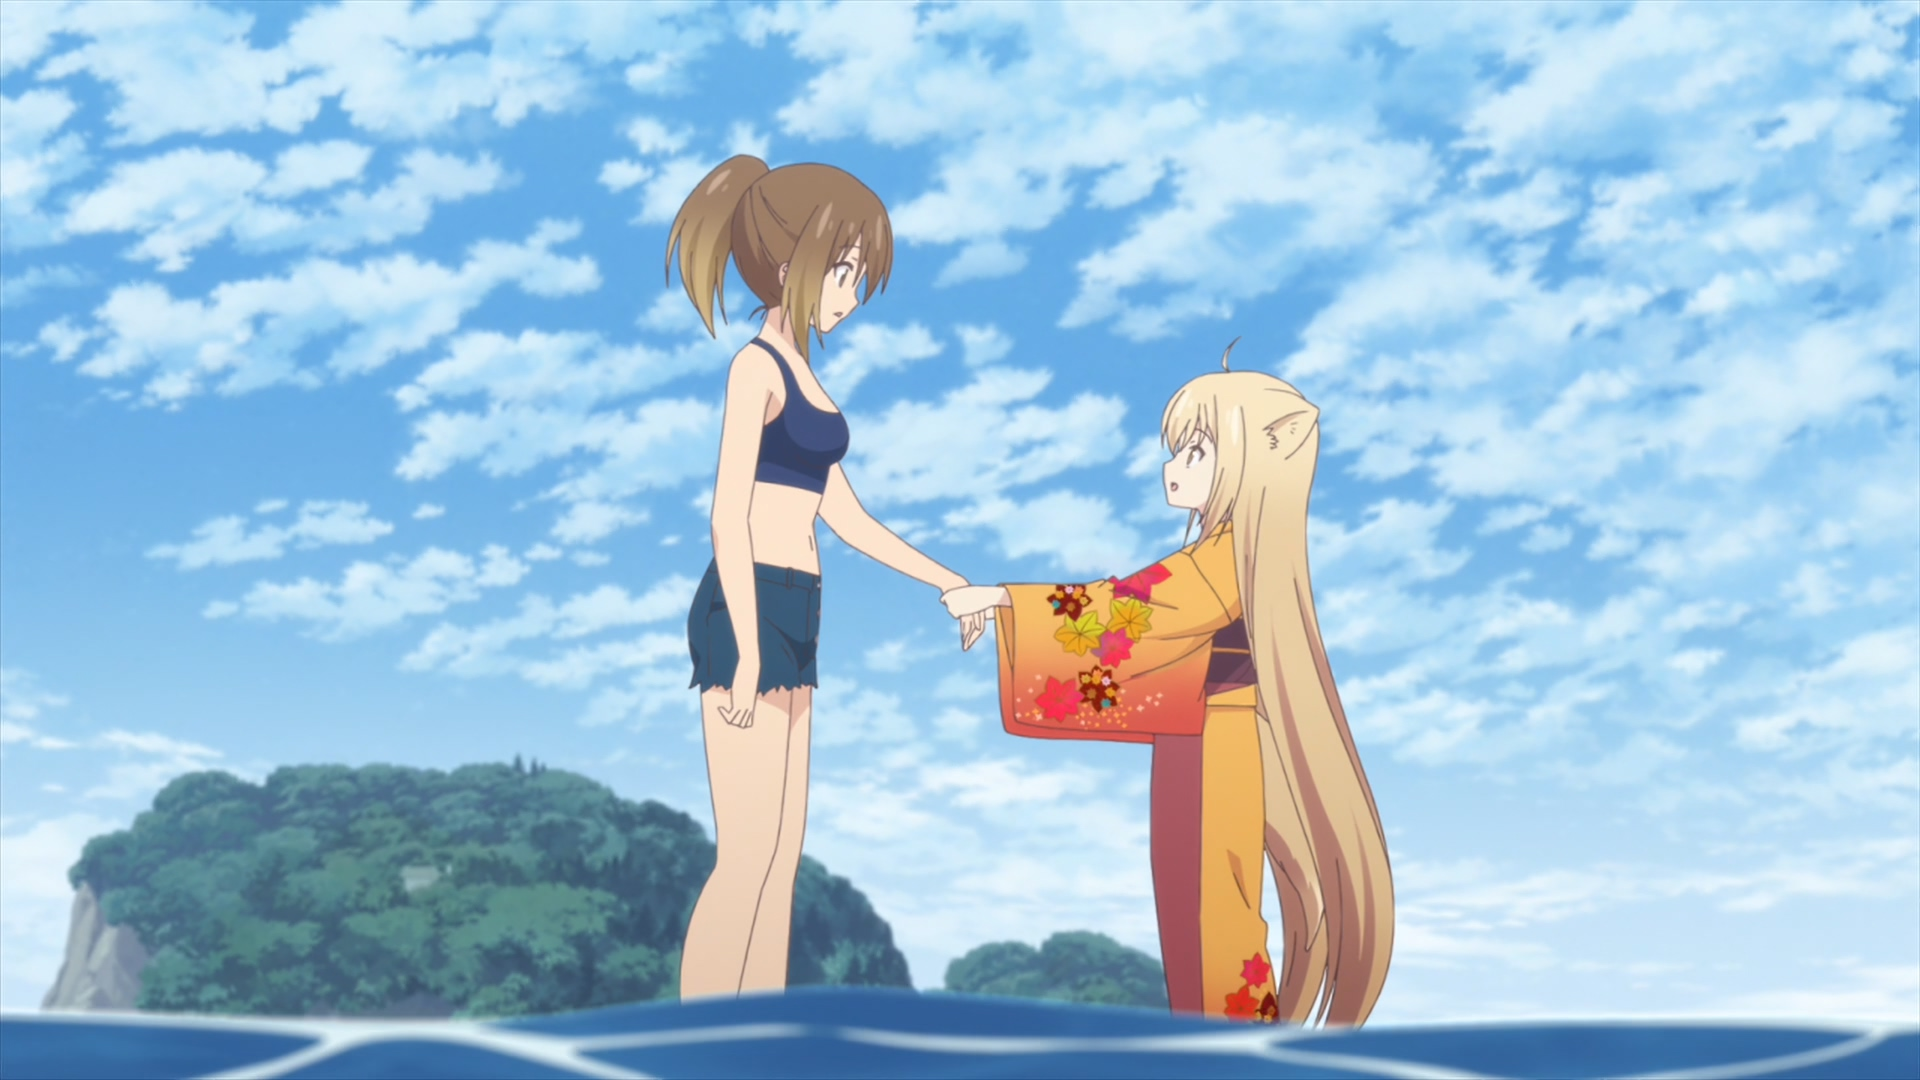其他: (665, 154, 986, 1005)
柚: (939, 338, 1393, 1030)
